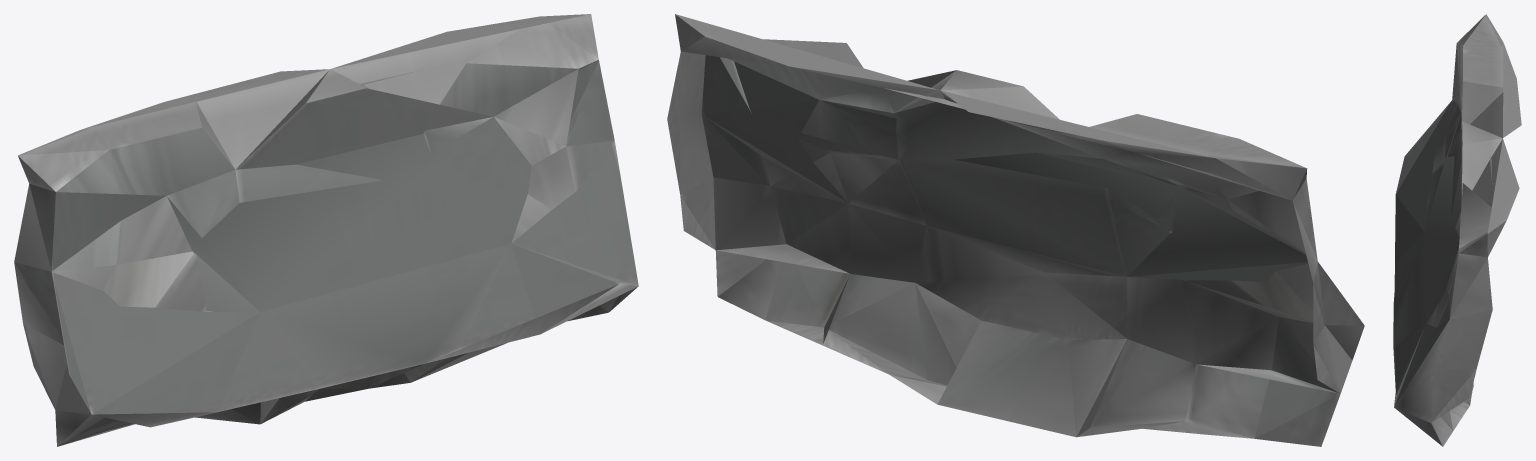
Rendered from shared_flak_tower_compact_option__radar_aperture_lod2.glb.
3 renders of one model, left to right at view 1: azimuth 30°, elevation 25°; view 2: azimuth 150°, elevation 25°; view 3: azimuth 270°, elevation 25°, orthographic. The views are drawn at different scales.
Visible parts, largest first — view 1: mesh_node; view 2: mesh_node; view 3: mesh_node.
Part boxes in pixels (x1=…): mesh_node: x1=14, y1=14, x2=638, y2=446; mesh_node: x1=667, y1=14, x2=1364, y2=446; mesh_node: x1=1393, y1=14, x2=1521, y2=446.
Bounding box in the file's own units: 1.33 × 0.6676 × 0.3216.
1 material, 1 textured.
